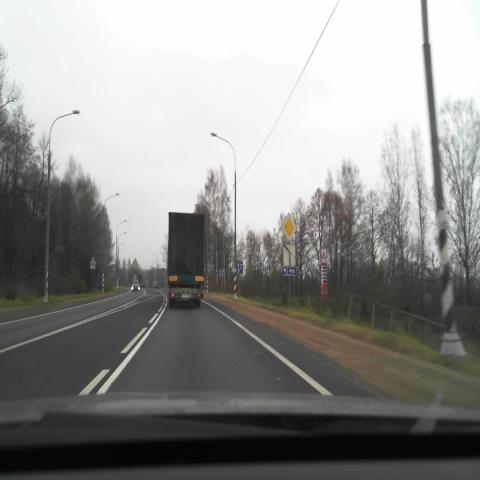2_1: (281, 212, 297, 242)
